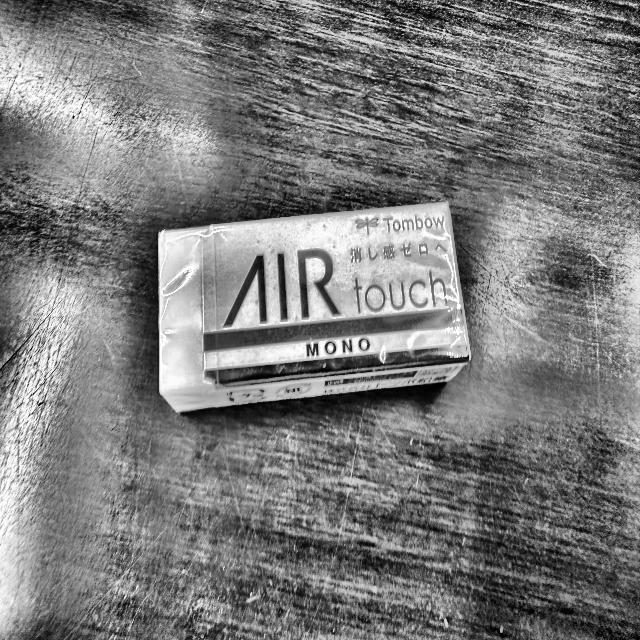eraser: (154, 197, 476, 436)
